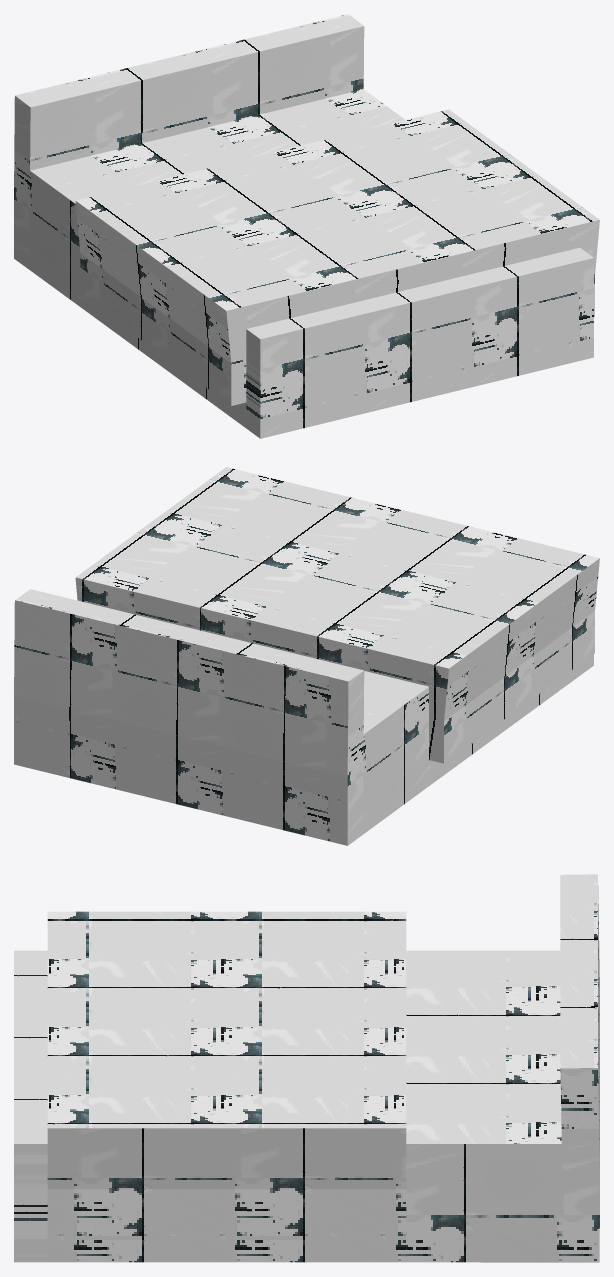
The model's file is BigBed.FBX.
3 views of the same model, one above another, from view 1: azimuth 30°, elevation 25°; view 2: azimuth 150°, elevation 25°; view 3: azimuth 270°, elevation 25° (orthographic). The views are drawn at different scales.
Visible parts, largest first — view 1: BedBig; view 2: BedBig; view 3: BedBig.
Part boxes in pixels (left/top/right/bottom): BedBig: left=14, top=14, right=599, bottom=438; BedBig: left=14, top=467, right=599, bottom=845; BedBig: left=14, top=874, right=599, bottom=1262.
Size of the model in its own units: 5.2 by 5.94 by 2.18.
1 material, 1 textured.
